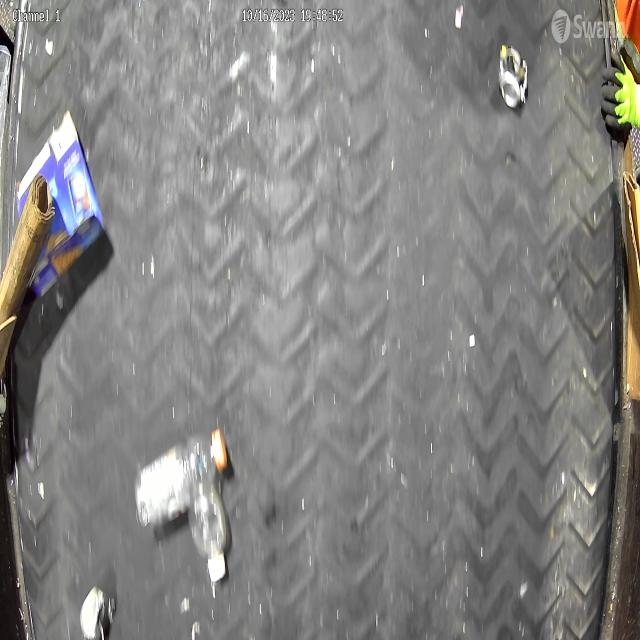can: (498, 44, 528, 108)
plastic_bottle: (134, 430, 228, 531), (186, 449, 230, 581)
